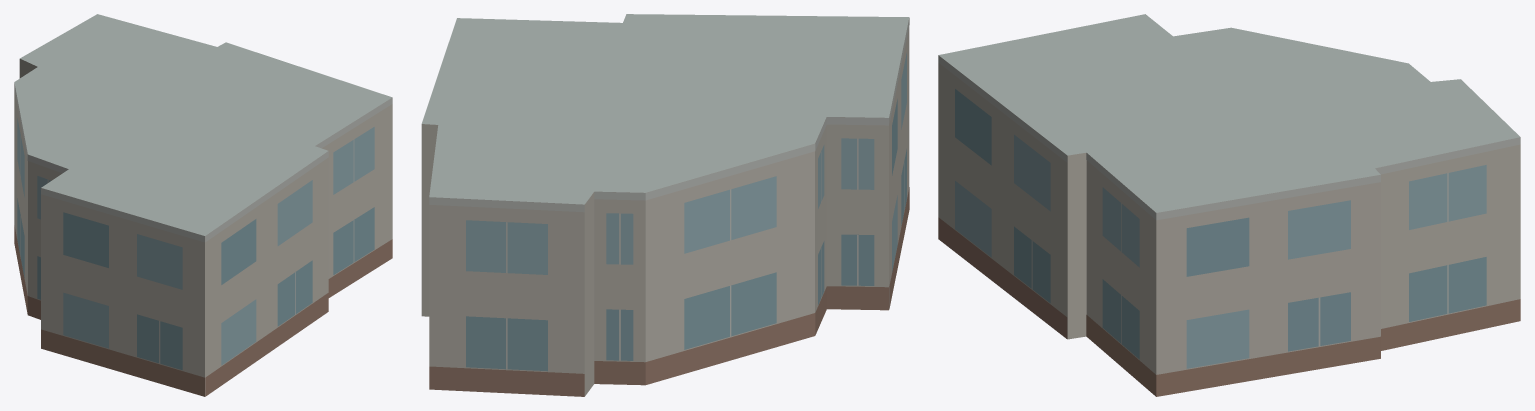
File: survey-upis-32678178.glb
3 renders of one model, left to right at view 1: azimuth 30°, elevation 25°; view 2: azimuth 150°, elevation 25°; view 3: azimuth 270°, elevation 25°, orthographic. The views are drawn at different scales.
Visible parts, largest first — view 1: survey-upis-32678178.tmp; view 2: survey-upis-32678178.tmp; view 3: survey-upis-32678178.tmp.
Boxes of the visible parts, box(x1,y1,x2,y2) form: survey-upis-32678178.tmp: box(14, 14, 392, 396); survey-upis-32678178.tmp: box(421, 14, 909, 396); survey-upis-32678178.tmp: box(938, 14, 1520, 396).
Bounding box in the file's own units: 14.16 × 6.1 × 17.52.
